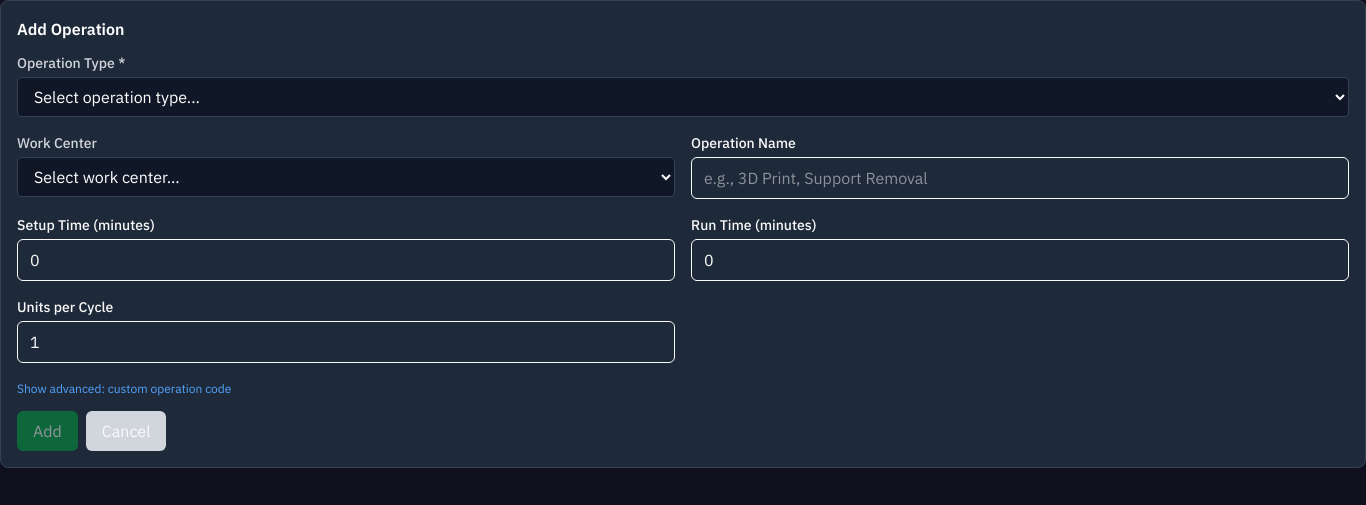
it: AddOperationForm — operation type picker › shows the selected type's plain-English description
Step 1. Select "Pack / Ship" in the dropdown labelled "Operation Type *" → (683,97), box [17, 77, 1349, 117]
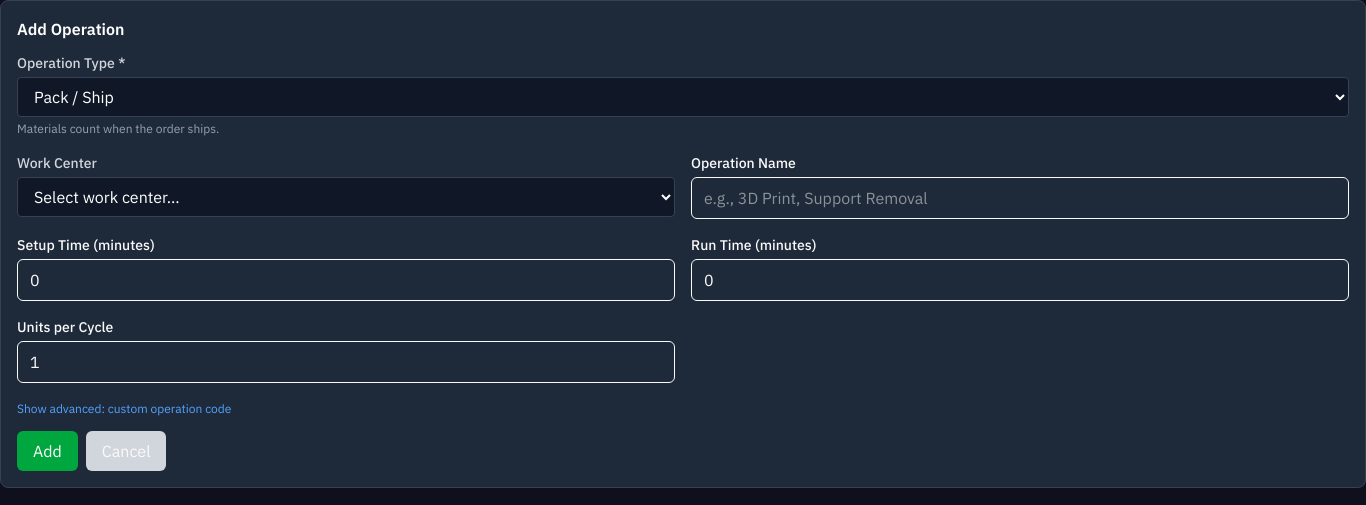
Check: the text "Materials count when the order ships." is shown, box [17, 121, 219, 136]
